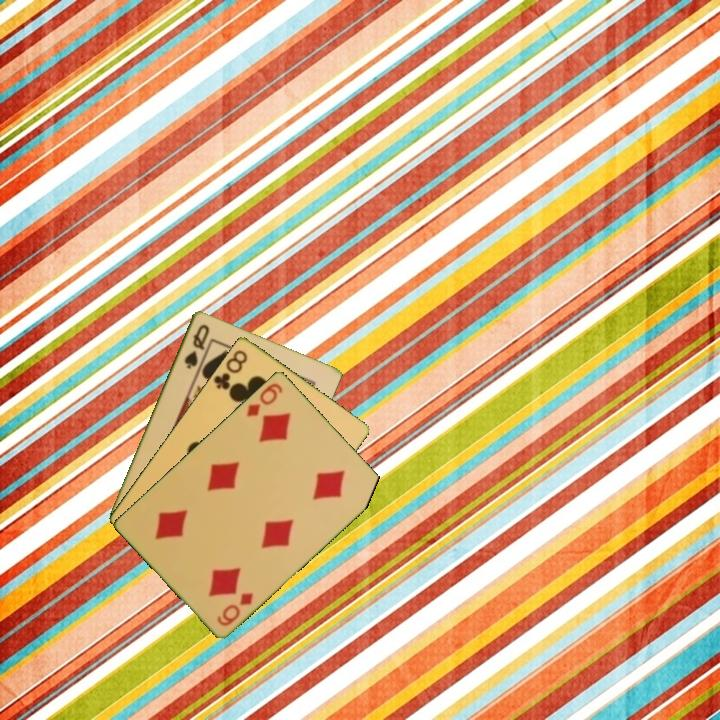6d: (213, 588, 256, 629), (243, 379, 285, 419)
8c: (210, 346, 250, 395)
Qs: (180, 320, 212, 372)
